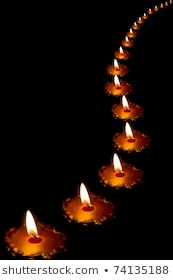Fire: (23, 207, 40, 240), (79, 181, 92, 205), (123, 119, 135, 141), (112, 153, 124, 174), (120, 94, 131, 110), (111, 56, 120, 68), (113, 74, 120, 87), (117, 46, 124, 54), (127, 27, 134, 35), (142, 11, 147, 17), (158, 1, 163, 7), (154, 4, 158, 10), (125, 36, 129, 41), (133, 21, 137, 26), (137, 16, 142, 20), (148, 7, 152, 12), (165, 1, 168, 4), (168, 1, 171, 2)
